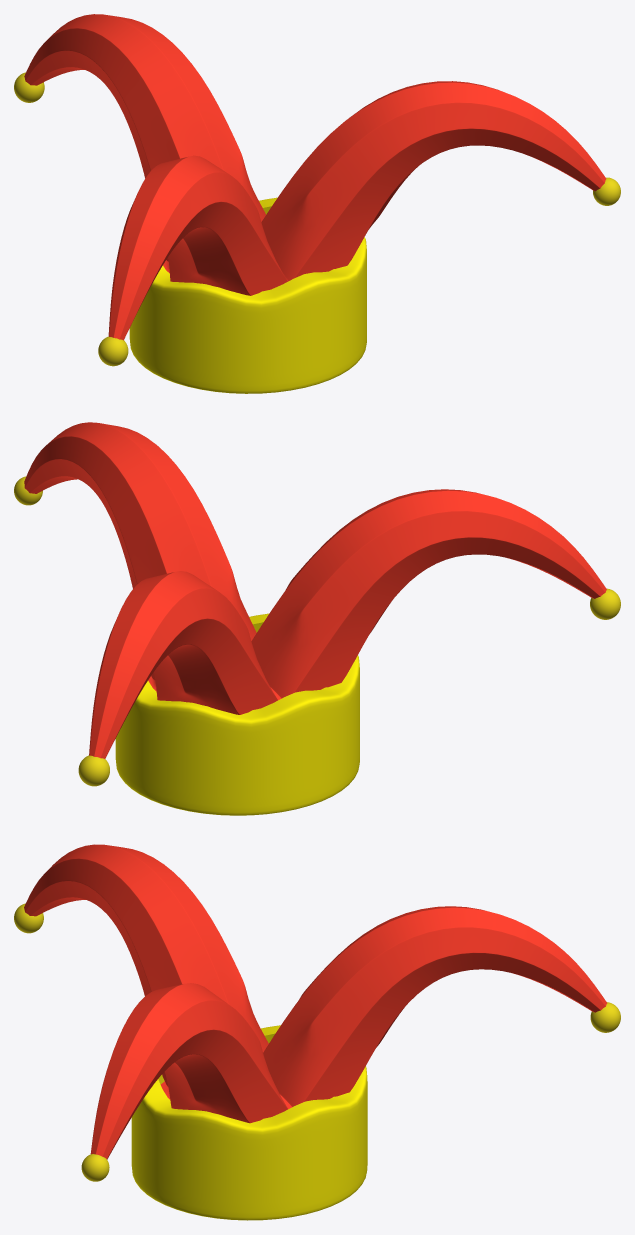
File: uploads_files_3583658_колпак+шута.fbx
3 views of the same model, one above another, from view 1: azimuth 30°, elevation 25°; view 2: azimuth 150°, elevation 25°; view 3: azimuth 270°, elevation 25° (orthographic). The views are drawn at different scales.
Visible parts, largest first — view 1: NurbsPath.002, NurbsPath.001, Sphere; view 2: NurbsPath.002, NurbsPath.001, Sphere; view 3: NurbsPath.002, NurbsPath.001, Sphere.
Part boxes in pixels (x1,y1,x2,y2): NurbsPath.002: [24, 14, 606, 340]; NurbsPath.001: [129, 197, 366, 393]; Sphere: [14, 72, 620, 366]; NurbsPath.002: [24, 422, 606, 758]; NurbsPath.001: [115, 613, 359, 815]; Sphere: [14, 476, 620, 786]; NurbsPath.002: [24, 844, 607, 1159]; NurbsPath.001: [131, 1025, 367, 1220]; Sphere: [14, 903, 620, 1181].
Size of the model in its own units: 855 by 376 by 819.
